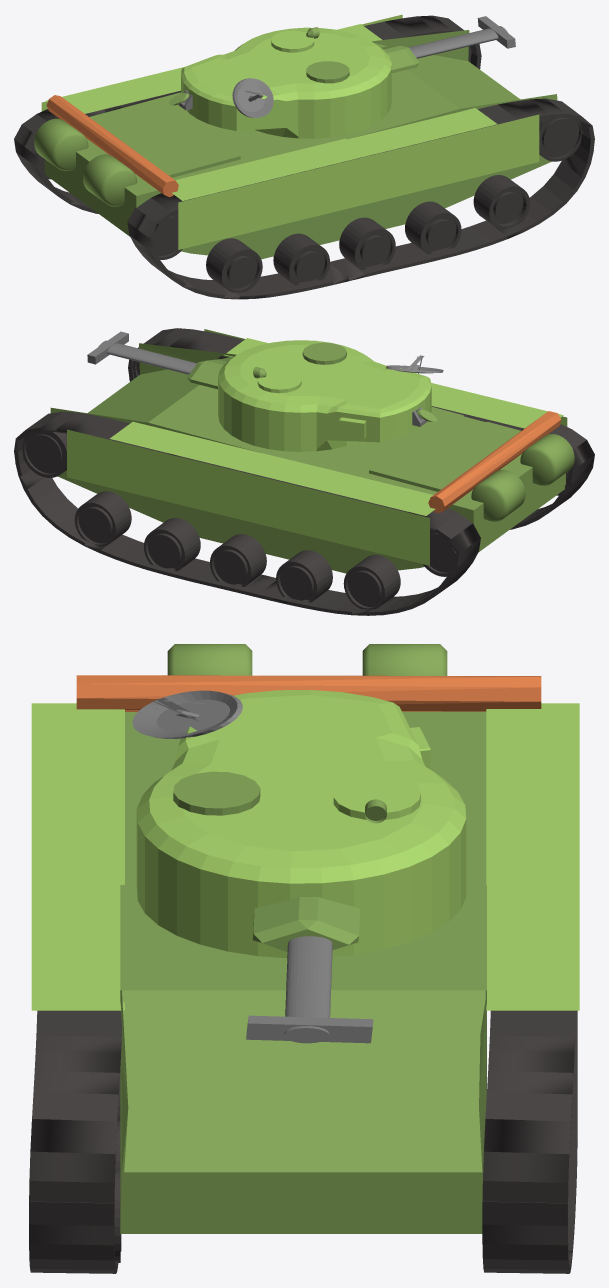
The model's file is ghost.glb.
The picture shows the model from 3 angles, top to bottom: view 1: azimuth 30°, elevation 25°; view 2: azimuth 150°, elevation 25°; view 3: azimuth 270°, elevation 25°; orthographic projection. The views are drawn at different scales.
Visible parts, largest first — view 1: Cube.001, Plane.003, turret, Plane.002, Plane.012, Plane, Cylinder.021, Plane.004, Cylinder.017, Cylinder.014, Cylinder.013, Cylinder.012 (+11 smaller); view 2: Cube.001, Plane.005, turret, Plane, Plane.004, Plane.002, Cylinder.021, Plane.012, Cylinder.002, Cylinder.005, Cylinder.004, Cylinder.003 (+10 smaller); view 3: Cube.001, turret, Plane.004, Plane.012, Plane, Plane.002, Cylinder.021, gun, Cylinder.027, Cylinder.024, Cylinder.028, Cylinder.029 (+3 smaller).
Boxes of the visible parts, x1,y1,x2,y2 form: Cube.001: (44,30,557,259); Plane.003: (178,114,539,249); turret: (181,27,391,138); Plane.002: (127,98,594,299); Plane.012: (172,108,497,200); Plane: (14,15,481,213); Cylinder.021: (46,95,178,197); Plane.004: (46,24,381,113); Cylinder.017: (206,238,262,292); Cylinder.014: (473,175,530,230); Cylinder.013: (405,201,461,254); Cylinder.012: (339,217,395,269); Cube.001: (50,343,565,573); Plane.005: (67,429,429,565); turret: (218,340,431,451); Plane: (14,411,480,615); Plane.004: (109,421,435,515); Plane.002: (128,328,594,529); Cylinder.021: (428,411,561,513); Plane.012: (224,338,563,428); Cylinder.002: (343,555,400,609); Cylinder.005: (74,491,131,546); Cylinder.004: (143,518,200,571); Cylinder.003: (210,534,266,586); Cube.001: (120,711,486,1233); turret: (136,690,466,957); Plane.004: (486,703,579,1010); Plane.012: (31,703,124,1010); Plane: (482,1010,577,1273); Plane.002: (29,1010,121,1273); Cylinder.021: (76,675,541,711); gun: (252,897,360,952); Cylinder.027: (284,936,332,1043); Cylinder.024: (132,690,242,738); Cylinder.028: (173,771,260,815); Cylinder.029: (333,776,420,819).
Bounding box in the file's own units: 11.05 × 4.18 × 5.75.
